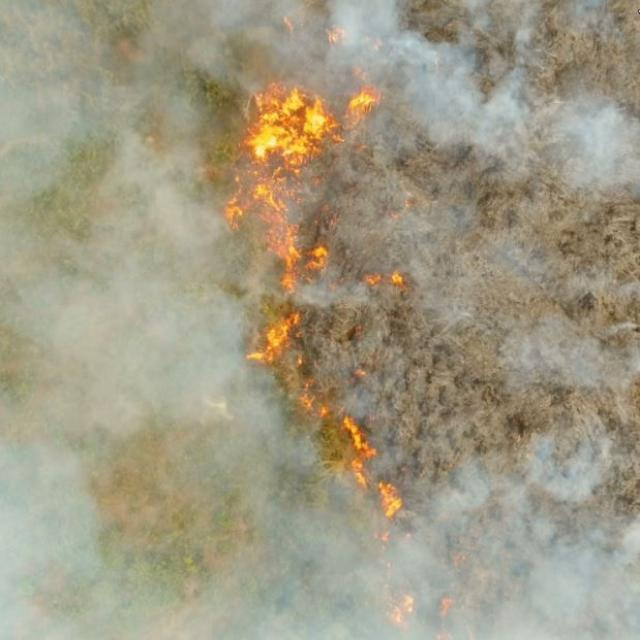Fire: (228, 69, 372, 290), (294, 404, 418, 534), (237, 298, 311, 384)
Smoke: (0, 3, 640, 636)
